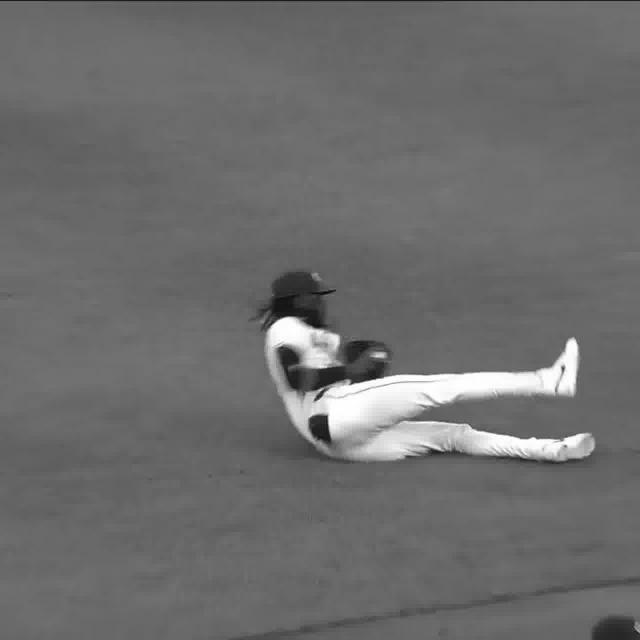baseball: (371, 352, 388, 360)
baseball_glove: (346, 338, 396, 378)
shoe: (552, 336, 588, 398), (544, 426, 596, 464)
